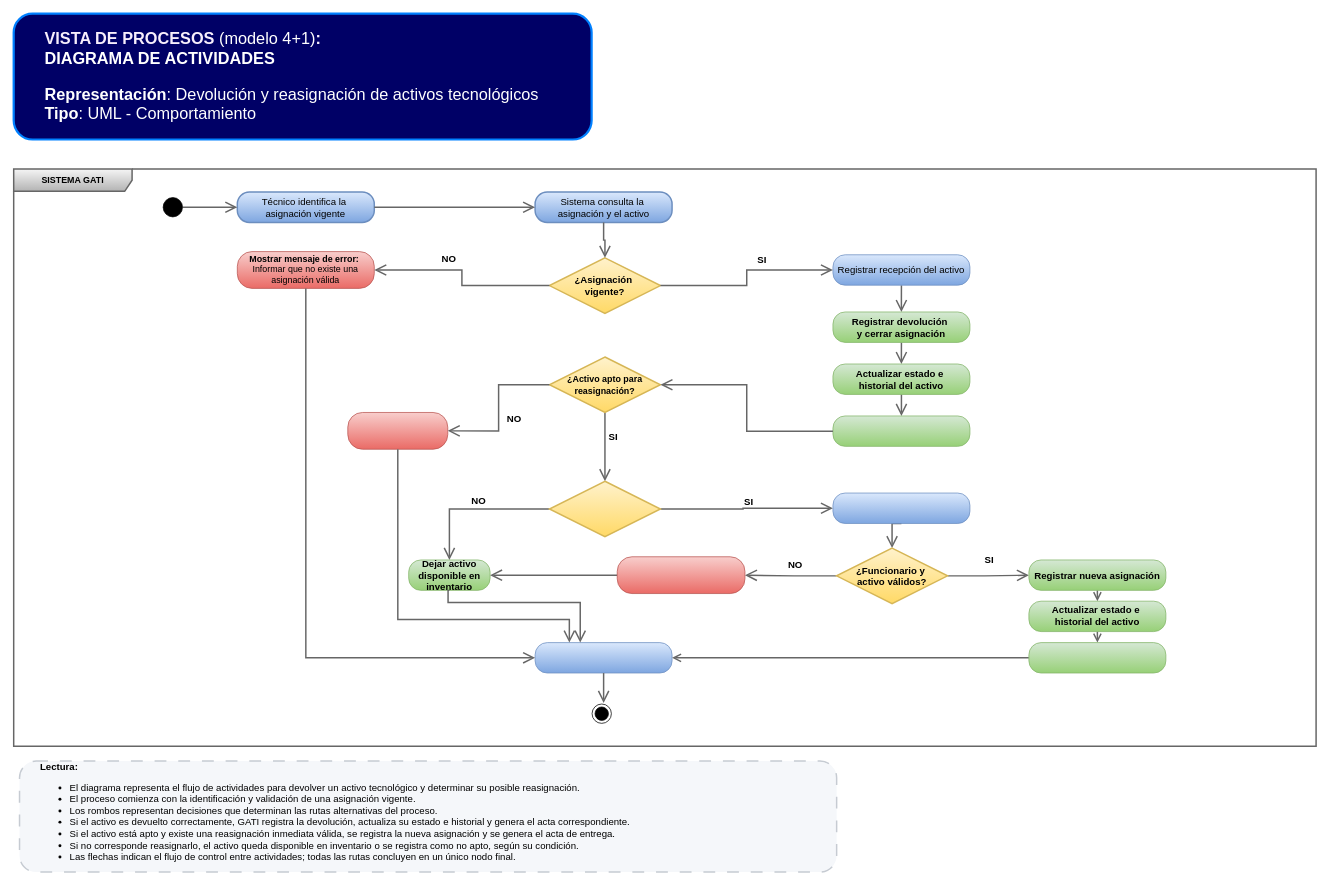
Image size: 1330x886. Some labels were removed from this diagram. The centre of each missing label's shape, as x and y in pixels:
Confirmar resultado de la operación: (603,657)
Generar y registrar acta de devolución: (901,430)
Generar y registrar acta de entrega: (1097,657)
Informar observaciones de validación: (680,575)
Registrar condición no apta: (397,430)
Seleccionar funcionario destinatario: (901,507)
¿Se requiere reasignación inmediata?: (604,508)
